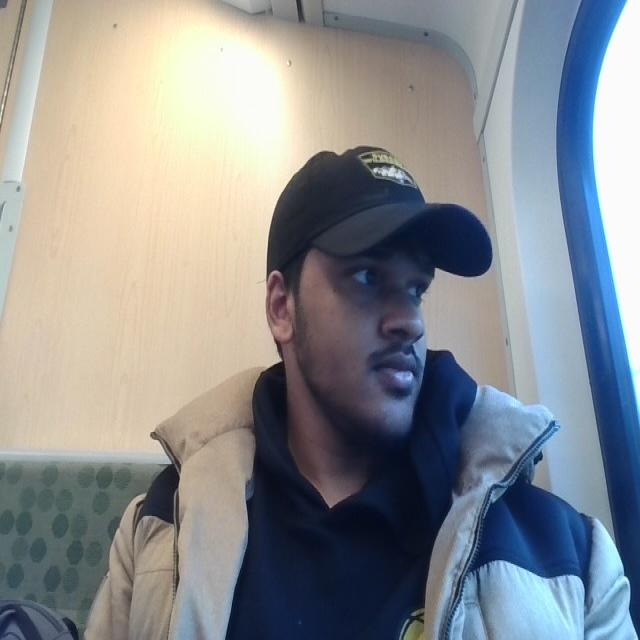hat: (260, 141, 498, 284)
